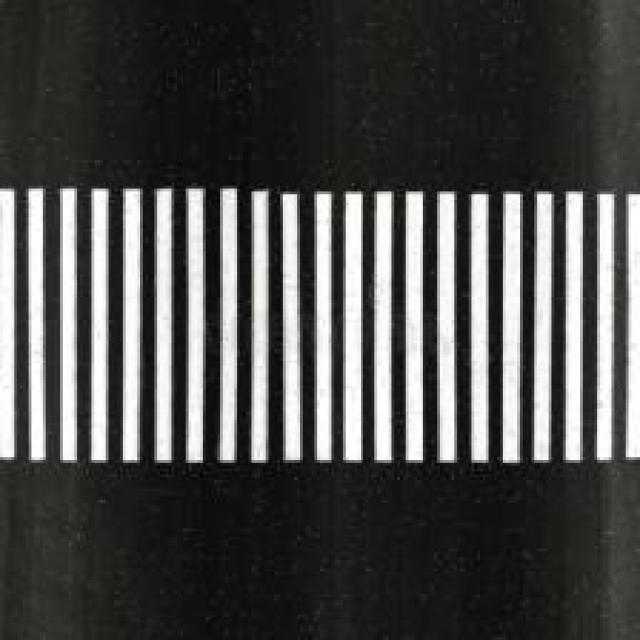crosswalk: (0, 184, 640, 464)
